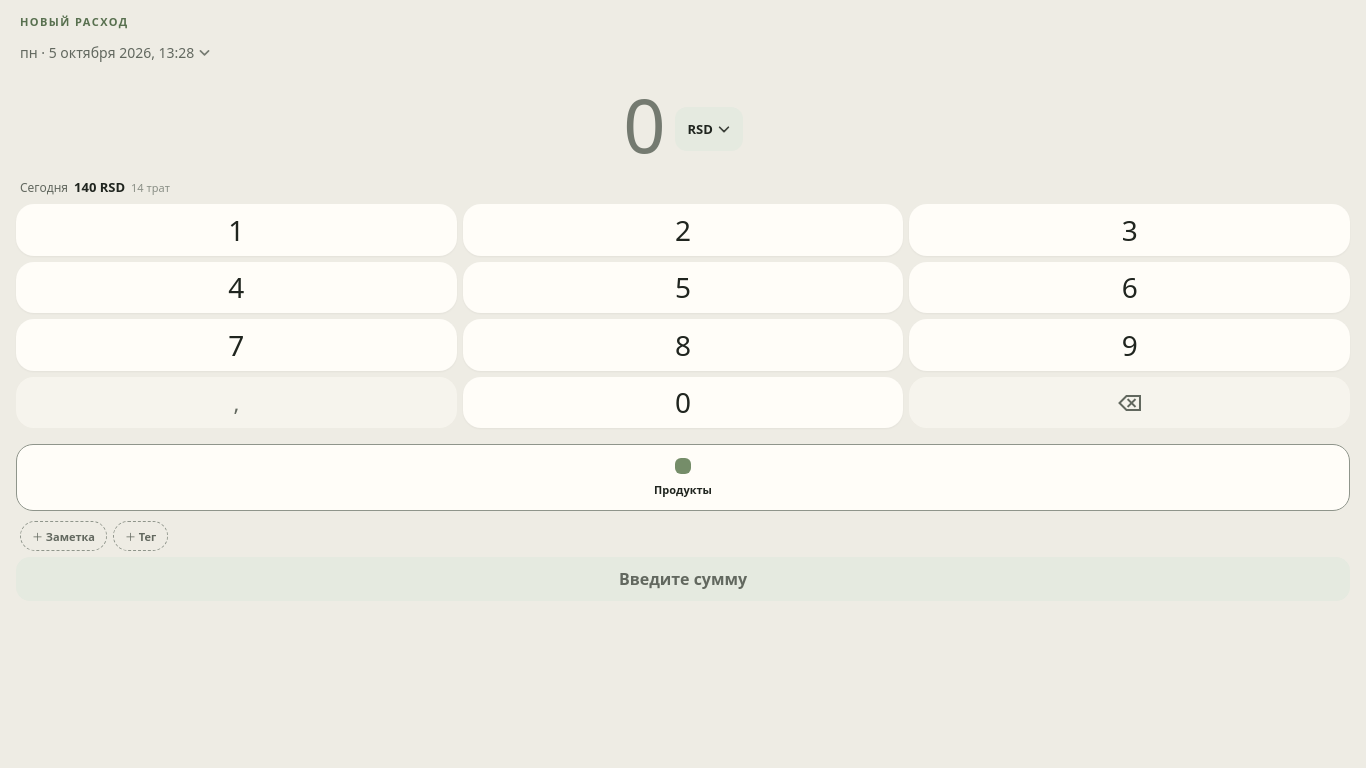
Test case: «Сегодня» and «Как обычно» on «Расход» › does not recount «Сегодня» over every expense on a keypad press
Expected: the element with class "entry-today" reads "Сегодня 140 RSD 14 трат", [20,178,170,196]
Click the button "7" at (236, 345), box [16,319,457,370]
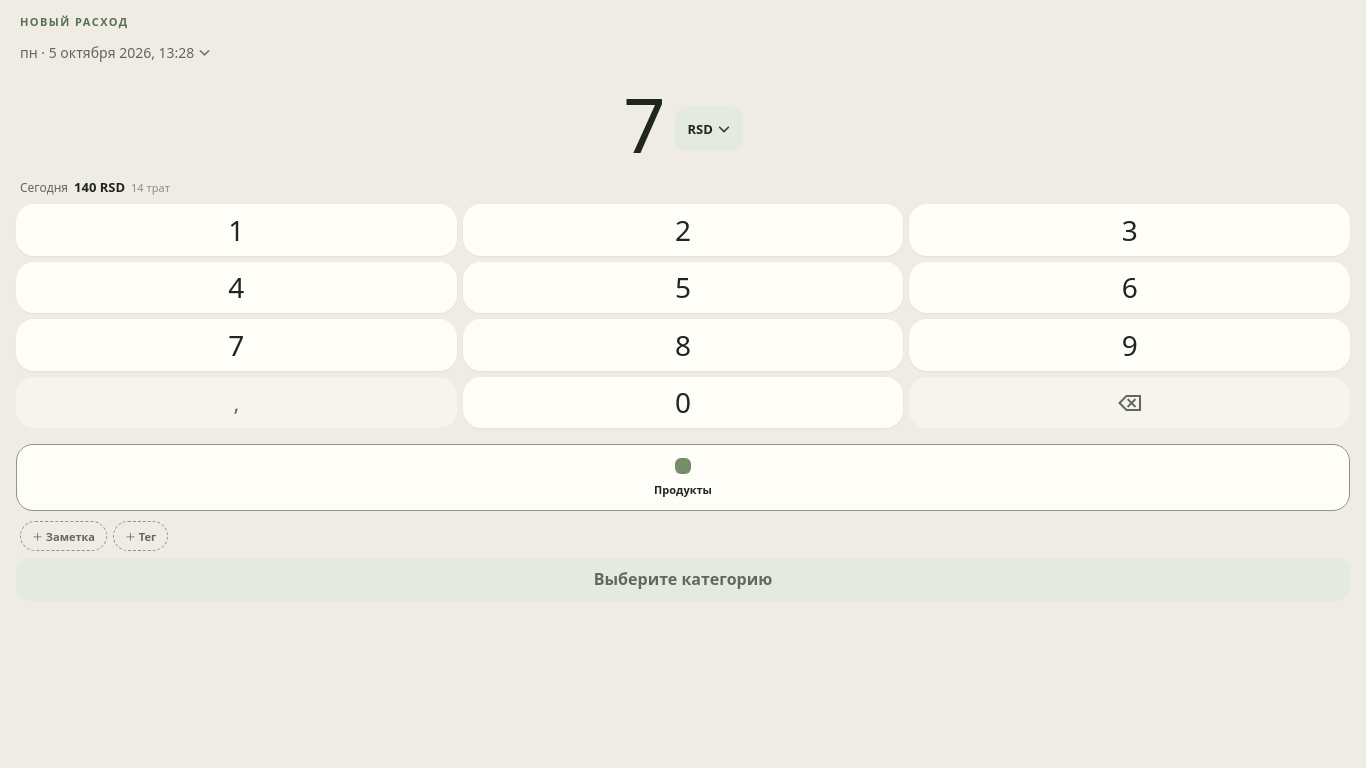
Click the button "5" at (683, 287), box [463,262,903,313]
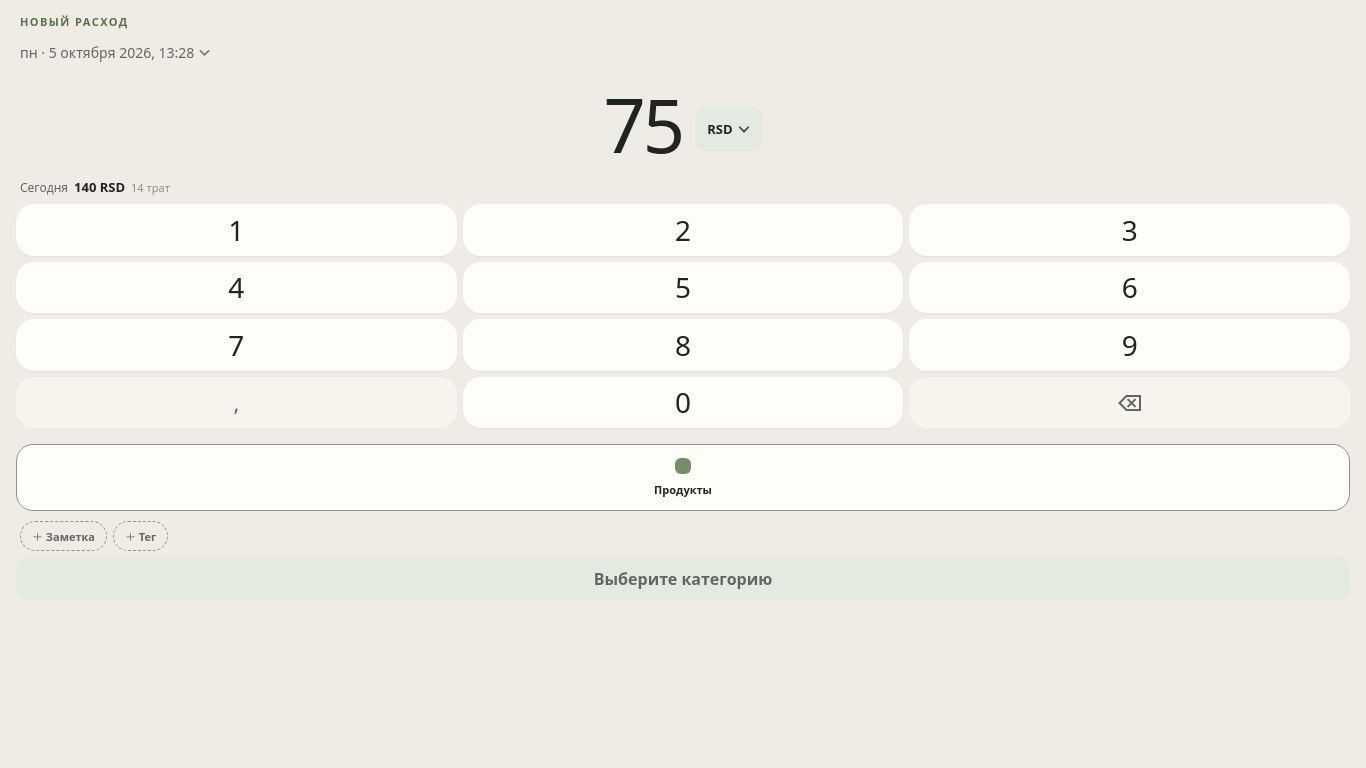
Expected: the text with class "amount-value" reads "75", [604,78,682,172]
